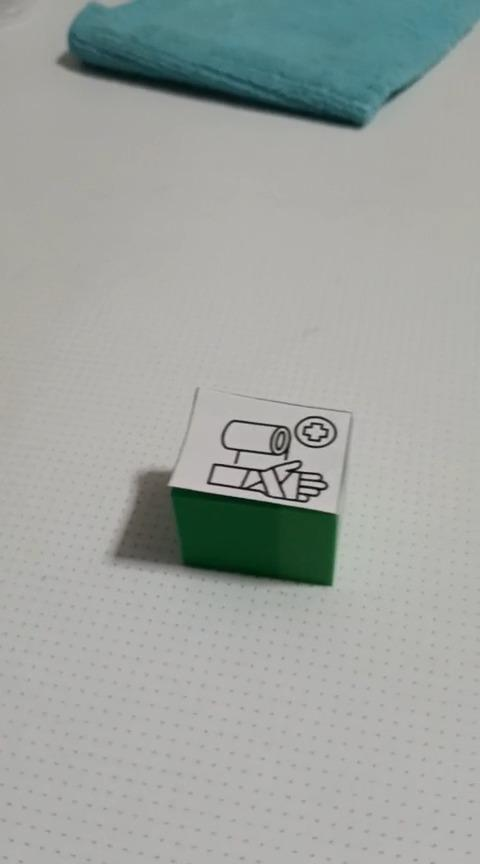Bandages: (66, 0, 479, 128), (166, 384, 353, 586)
